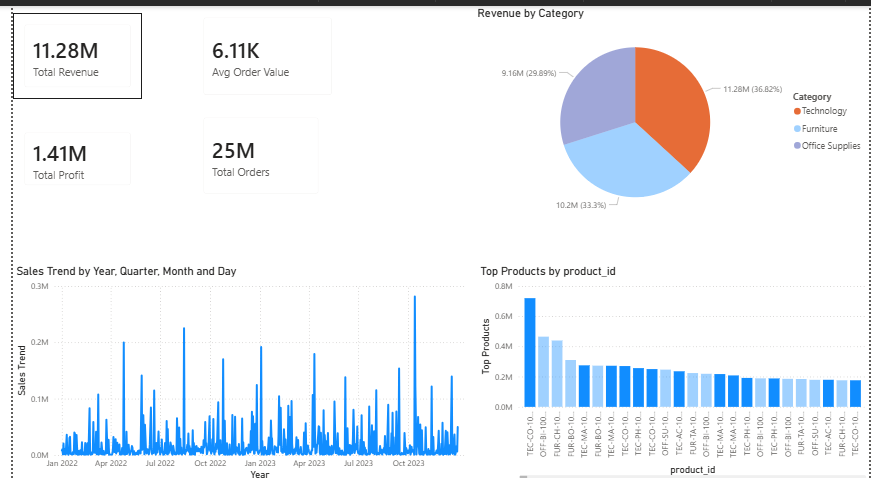

Layout of this report page (visuals, bound fields, positions):
{"tool":"powerbi","page":{"name":"Page 1","canvas":[1280,720],"ordinal":0},"visuals":[{"type":"cardVisual","fields":{"Data":["Sum(fact_sales.revenue)"]},"box":[0,10,193.3,128.3],"z":0},{"type":"cardVisual","fields":{"Data":["Sum(fact_sales.profit)"]},"box":[0,171.7,193.3,113.3],"z":1000},{"type":"lineChart","fields":{"Y":["Sum(fact_sales.revenue)"],"Category":["dim_date.order_date.Variation.Date Hierarchy.Year","dim_date.order_date.Variation.Date Hierarchy.Quarter","dim_date.order_date.Variation.Date Hierarchy.Month","dim_date.order_date.Variation.Date Hierarchy.Day"]},"box":[0,385,693.3,328.3],"z":2000},{"type":"clusteredColumnChart","fields":{"Category":["dim_product.product_id"],"Y":["Sum(fact_sales.revenue)"]},"box":[693.3,385,586.7,328.3],"z":3000},{"type":"pieChart","fields":{"Category":["dim_product.category"],"Y":["Sum(fact_sales.revenue)"]},"box":[688.3,0,591.7,328.3],"z":4000},{"type":"cardVisual","fields":{"Data":["Sum(fact_sales.order_id)"]},"box":[266.7,150,206.7,148.3],"z":5000},{"type":"cardVisual","fields":{"Data":["dim_date.Average Order Value"]},"box":[266.7,0,226.7,150],"z":6000}]}

Visuals, with their boxes in screenshot pixels (x1, y1, x2, y2), scaled from the page's 1280x720 canvas onto the 871x478 screenshot:
cardVisual - Sum(fact_sales.revenue): [x1=0, y1=7, x2=132, y2=92]
cardVisual - Sum(fact_sales.profit): [x1=0, y1=114, x2=132, y2=189]
lineChart - Sum(fact_sales.revenue) x dim_date.order_date.Variation.Date Hierarchy.Year: [x1=0, y1=256, x2=472, y2=474]
clusteredColumnChart - dim_product.product_id x Sum(fact_sales.revenue): [x1=472, y1=256, x2=870, y2=474]
pieChart - dim_product.category x Sum(fact_sales.revenue): [x1=468, y1=0, x2=870, y2=218]
cardVisual - Sum(fact_sales.order_id): [x1=181, y1=100, x2=322, y2=198]
cardVisual - dim_date.Average Order Value: [x1=181, y1=0, x2=336, y2=100]
